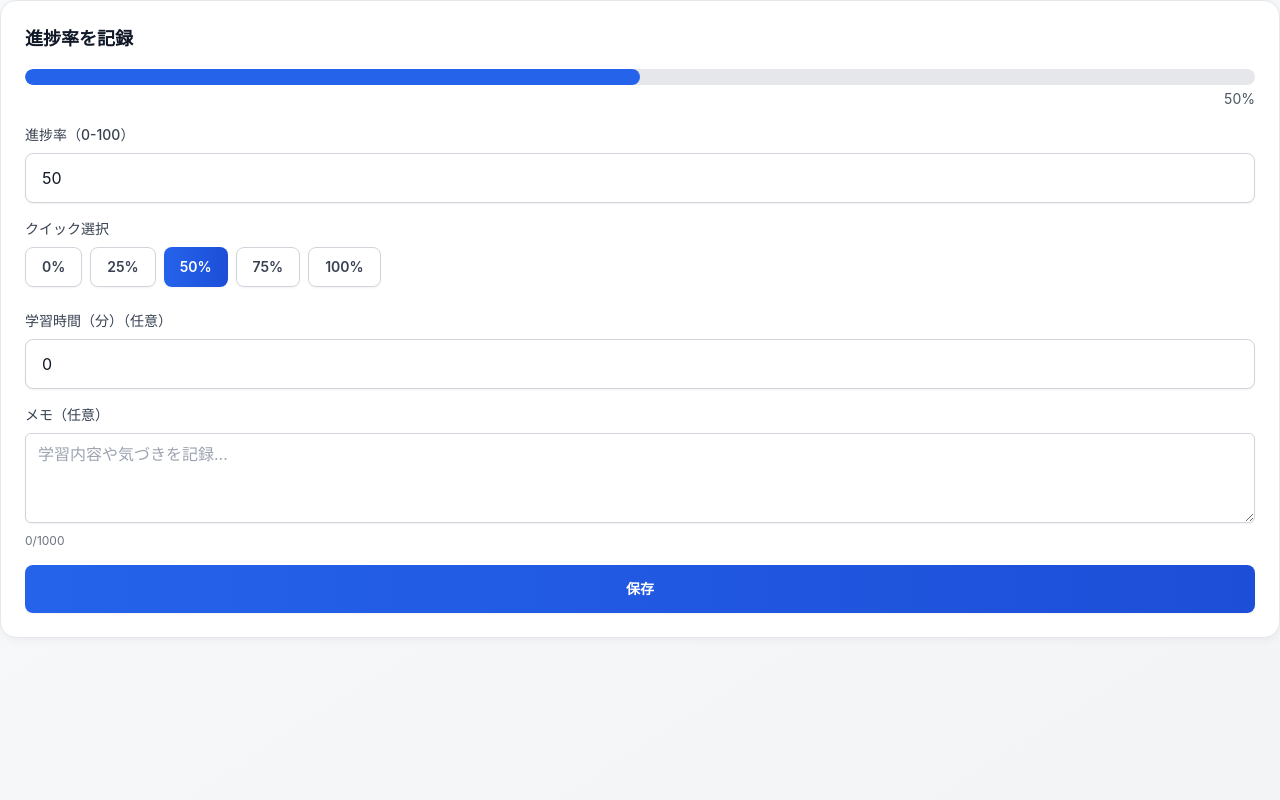
it: ProgressInputForm › タスク6.1: リアルタイムバリデーション › 0未満の値でエラーメッセージを表示する
Replace the text in the number field labelled "進捗率（0-100）" with "-10" at [640, 178], box x1=25 y1=153 x2=1255 y2=203
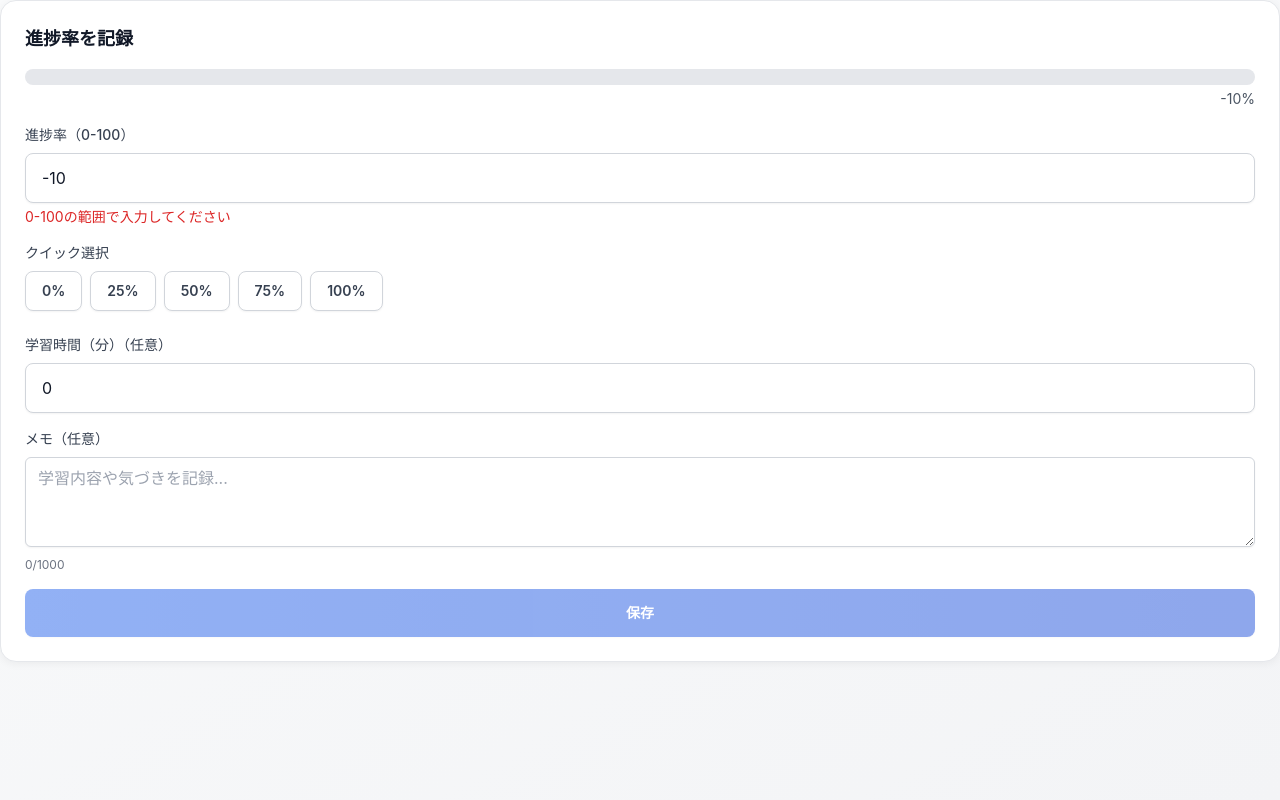
Expected: the text "0-100の範囲で入力してください" is shown, x1=25 y1=208 x2=231 y2=225
